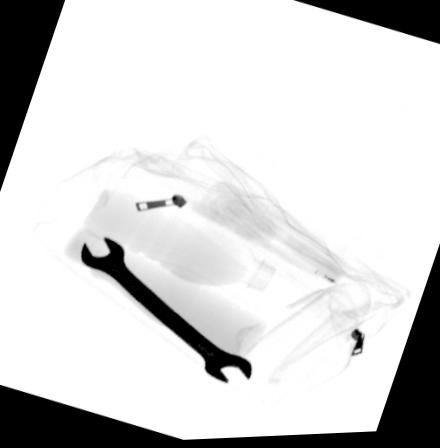Wrench: (78, 237, 252, 385)
